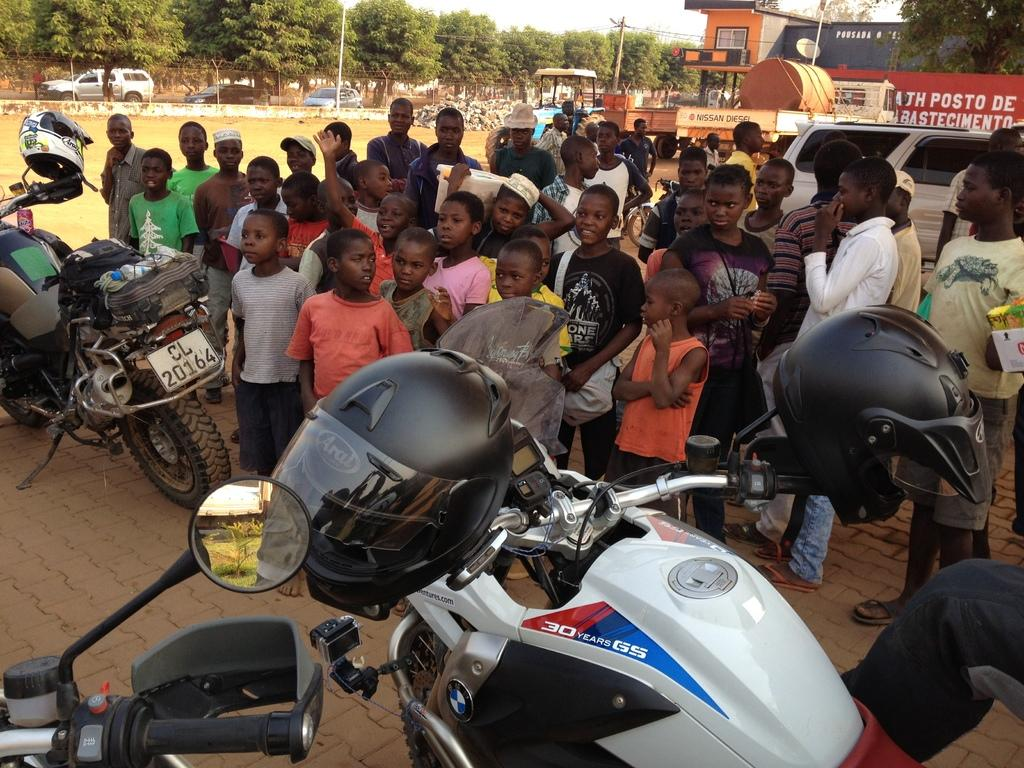helmet: (268, 348, 515, 607), (772, 303, 993, 528), (18, 110, 95, 184)
nohelmet: (954, 148, 1024, 227), (831, 154, 898, 226), (638, 266, 704, 334), (325, 227, 378, 296), (703, 163, 754, 234), (494, 238, 544, 307), (390, 225, 440, 293), (491, 172, 540, 238), (436, 189, 486, 253), (239, 207, 291, 268), (574, 182, 621, 249), (752, 157, 796, 212), (559, 134, 602, 181), (351, 158, 393, 205), (246, 155, 283, 206), (503, 102, 539, 152), (139, 147, 174, 195), (279, 134, 317, 178), (677, 146, 709, 196), (211, 127, 244, 174), (434, 107, 465, 157), (177, 120, 209, 164), (732, 120, 766, 157), (105, 112, 135, 153), (387, 97, 415, 138), (595, 120, 621, 156), (551, 112, 570, 132), (633, 117, 648, 139), (706, 132, 721, 151)
